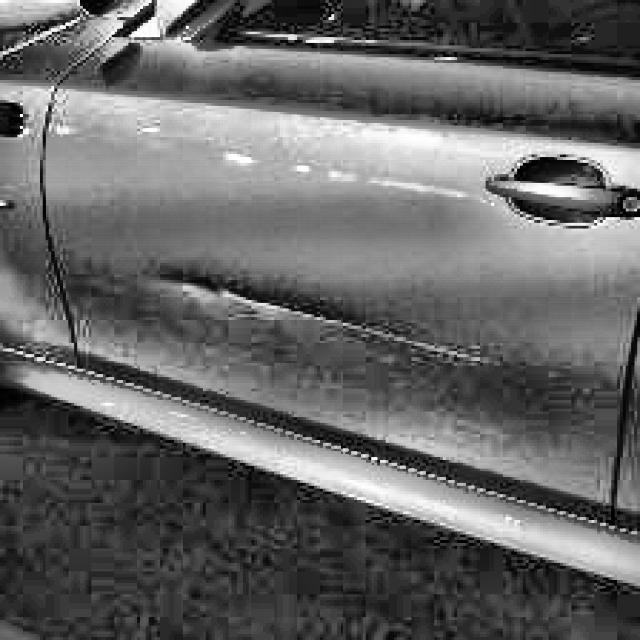door_scratch: (166, 277, 495, 368)
